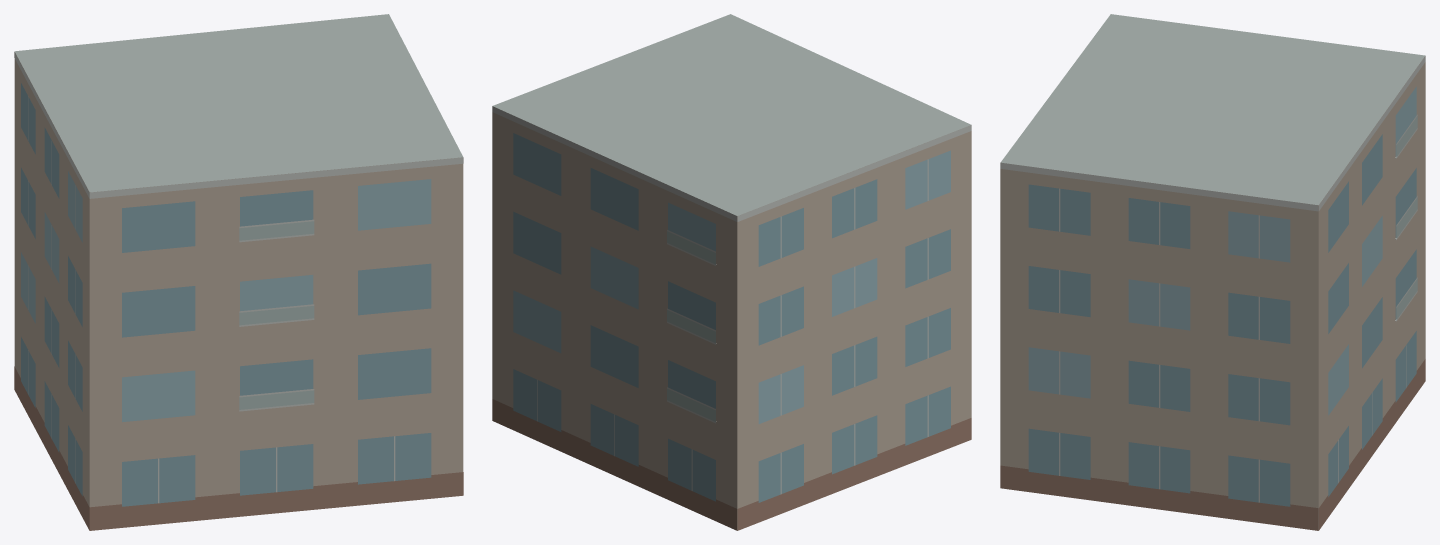
Rendered from survey-upis-32655234.glb.
3 renders of one model, left to right at view 1: azimuth 30°, elevation 25°; view 2: azimuth 150°, elevation 25°; view 3: azimuth 270°, elevation 25°, orthographic. The views are drawn at different scales.
Visible parts, largest first — view 1: survey-upis-32655234.tmp; view 2: survey-upis-32655234.tmp; view 3: survey-upis-32655234.tmp.
Part boxes in pixels (x1=…): survey-upis-32655234.tmp: x1=14, y1=14, x2=463, y2=530; survey-upis-32655234.tmp: x1=492, y1=14, x2=971, y2=530; survey-upis-32655234.tmp: x1=1000, y1=14, x2=1425, y2=530.
Size of the model in its own units: 16.13 by 12.8 by 15.15.
